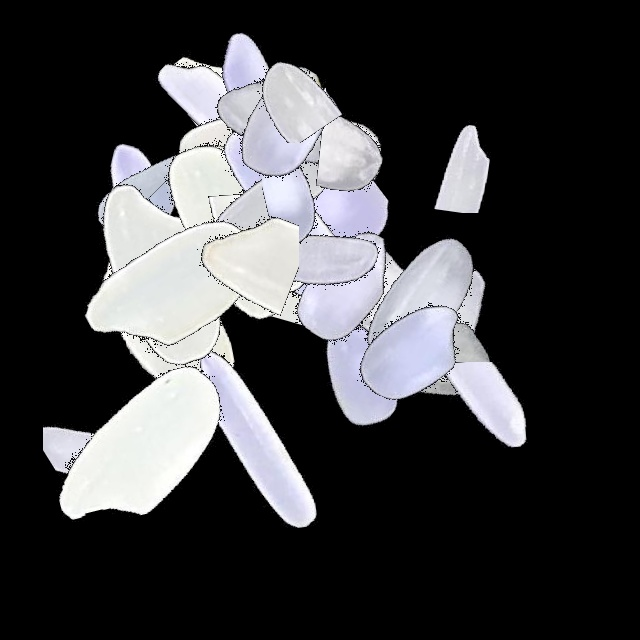Broken: (218, 106, 390, 356), (43, 302, 213, 552), (225, 184, 475, 345), (120, 85, 370, 243), (226, 63, 378, 313), (238, 129, 388, 379), (231, 196, 481, 341), (342, 72, 592, 213), (73, 144, 213, 394), (351, 201, 601, 336), (262, 53, 397, 303), (152, 9, 402, 143), (196, 195, 446, 328), (343, 362, 593, 491), (138, 192, 388, 316), (65, 190, 315, 311), (253, 94, 503, 212), (181, 130, 299, 380), (113, 131, 222, 381), (137, 135, 387, 230), (185, 107, 277, 357), (237, 0, 326, 250), (107, 128, 357, 207), (251, 184, 330, 434)
Full: (124, 0, 374, 250), (113, 0, 363, 250), (304, 235, 554, 485), (138, 0, 388, 250), (156, 33, 406, 283), (186, 93, 436, 343), (233, 251, 483, 501), (36, 172, 286, 422), (22, 114, 272, 364), (137, 102, 387, 352), (214, 143, 464, 393), (190, 14, 440, 264), (183, 136, 433, 386), (33, 62, 283, 312), (133, 313, 383, 563), (251, 168, 501, 418), (32, 153, 282, 403), (299, 177, 549, 427), (108, 103, 358, 353), (167, 93, 417, 343), (220, 160, 470, 410), (47, 166, 297, 416), (158, 0, 408, 250), (12, 323, 262, 573), (162, 0, 412, 250), (286, 226, 536, 476)
